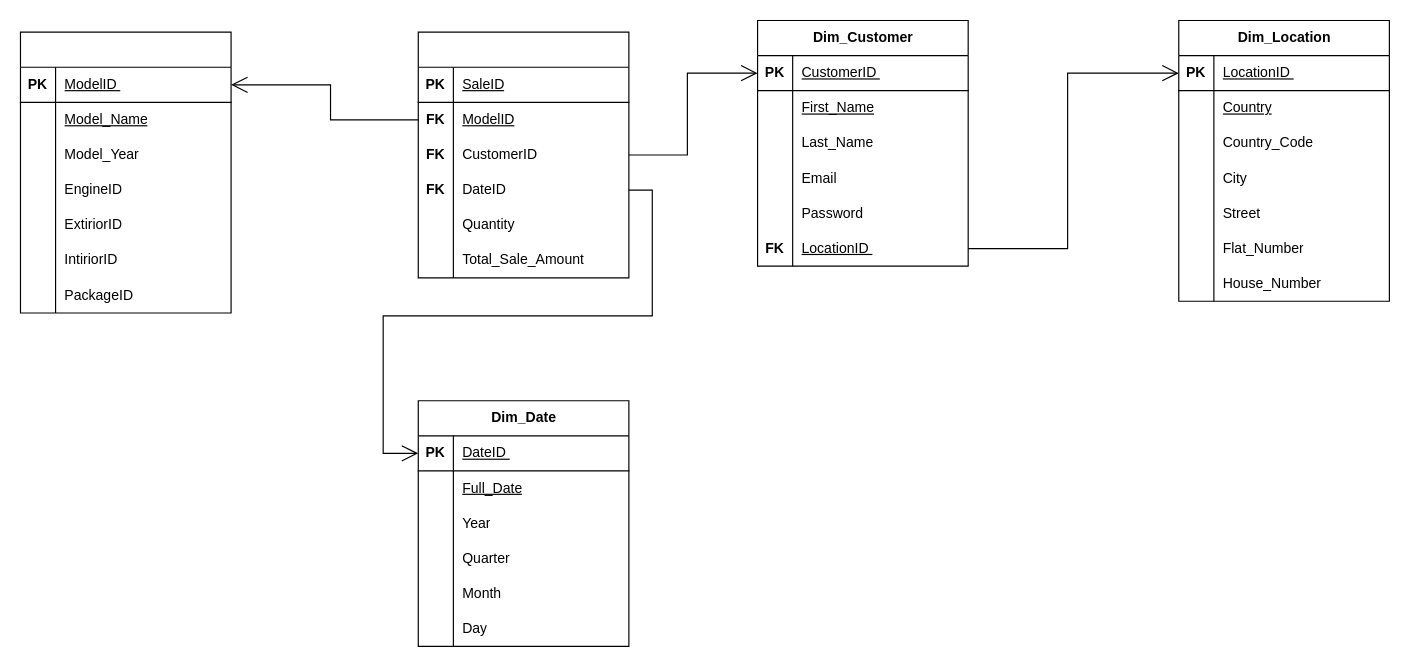
The diagram is 1410 pixels wide and 667 high, and some of its shapes have lost their labels. The box of each missing label's shape, as (x1, y1, x2, y2) in pixels:
Dim_Model: (19, 31, 231, 313)
Fact_Sales: (417, 31, 629, 278)
